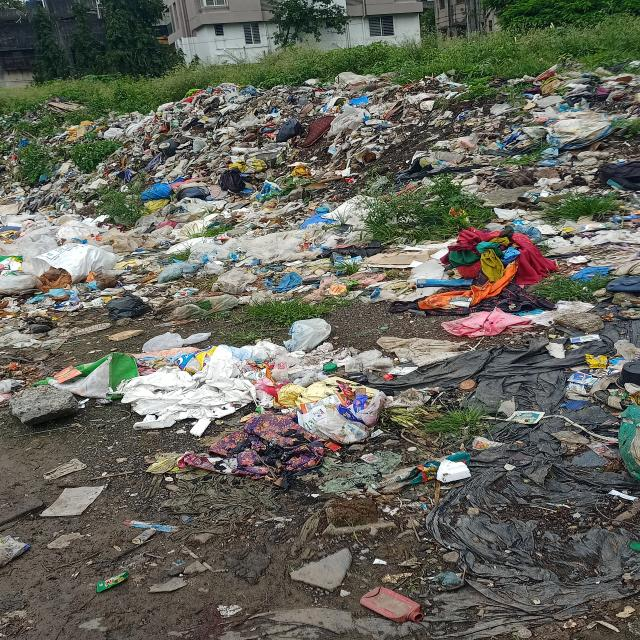garbage: (0, 82, 640, 498)
